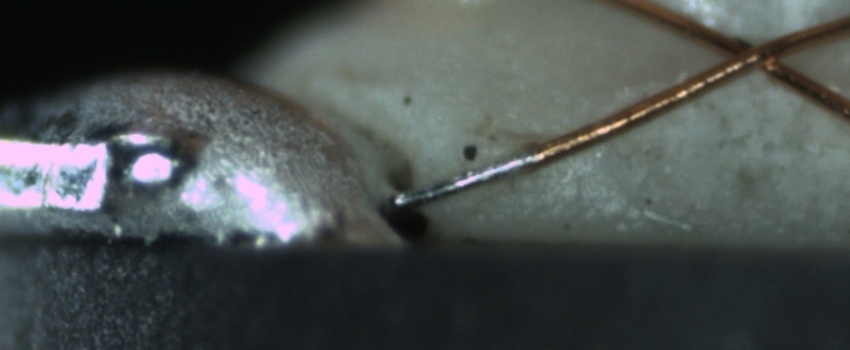CL: (710, 27, 803, 84)
DL: (456, 122, 605, 167)
TS: (393, 149, 545, 207)
